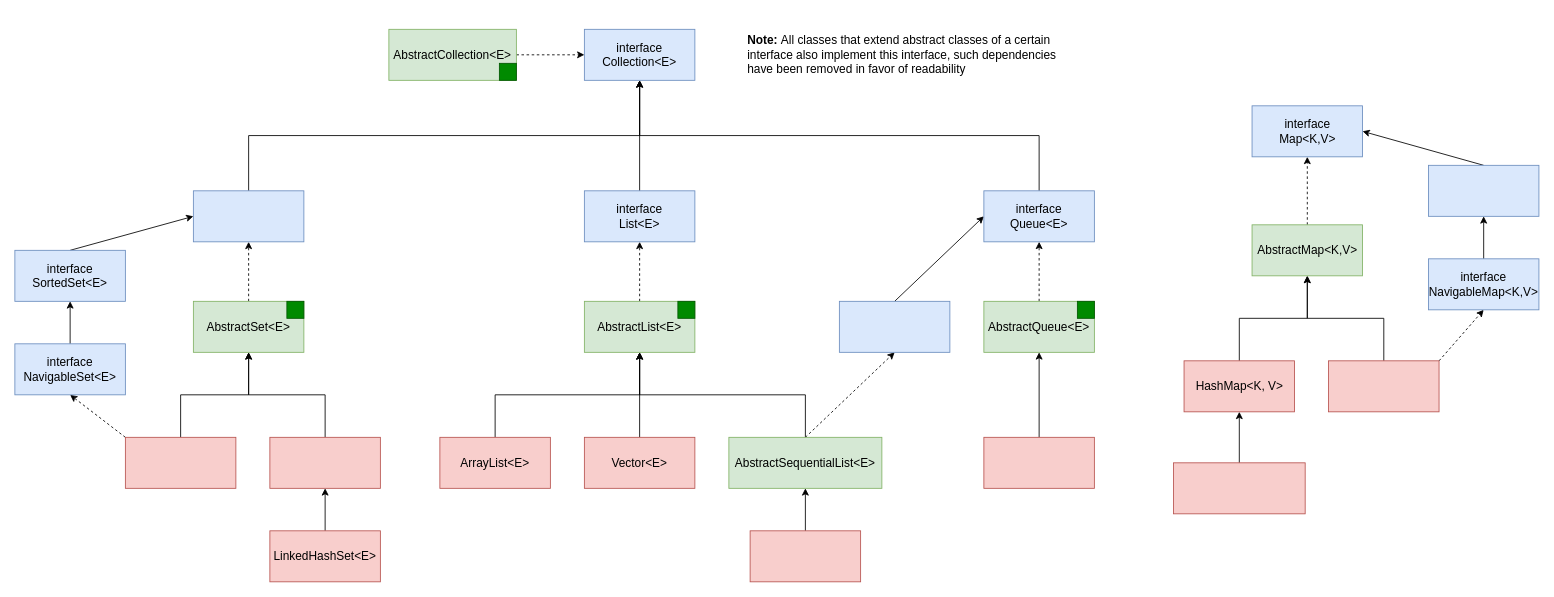
This 1554x597 diagram has some shape labels left out. The shapes that lost their labels are listed below. From the top down, each one's centre as x and y in pixels, then its label:
(x=1483, y=190): interface SortedMap<K,V>
(x=248, y=216): interface Set<E>
(x=894, y=326): interface Deque<E>
(x=1383, y=386): TreeMap<K, V>
(x=180, y=462): TreeSet<E>
(x=324, y=462): HashSet<E>
(x=1038, y=462): PriorityQueue<E>
(x=1239, y=488): LinkedHashMap<K, V>
(x=805, y=556): LinkedList<E>
